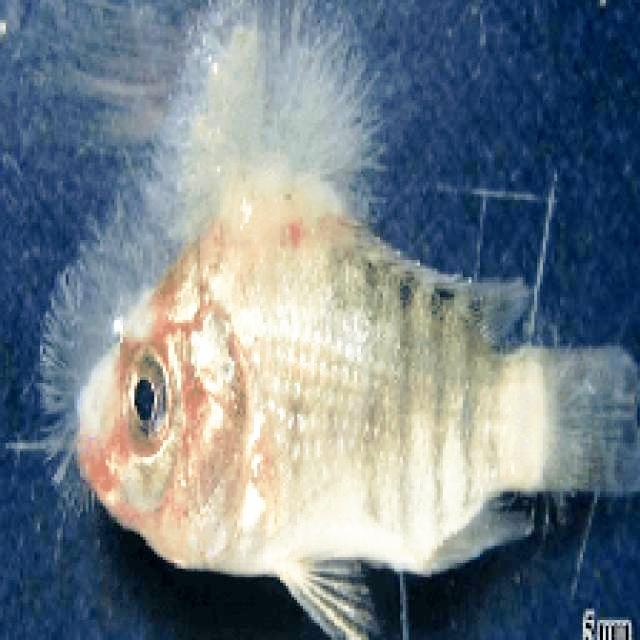Fungal Disease -Saprolegniasis-: (44, 0, 640, 639), (78, 0, 640, 640), (48, 0, 638, 591), (78, 1, 597, 583)
